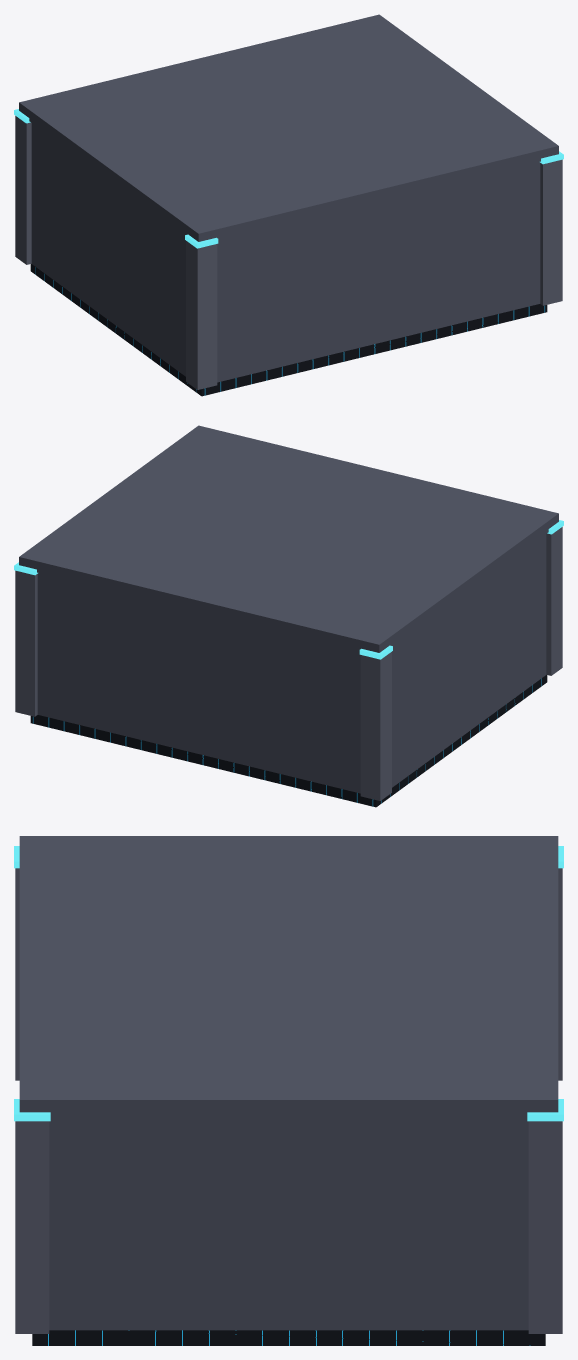
The model's file is east.glb.
The picture shows the model from 3 angles, top to bottom: view 1: azimuth 30°, elevation 25°; view 2: azimuth 150°, elevation 25°; view 3: azimuth 270°, elevation 25°; orthographic projection. The views are drawn at different scales.
Parts seen in each view (by area): view 1: E_Roof, E_Wall_S, E_Wall_West, E_Floor, E_Post.003, E_Post.001, E_Post.002; view 2: E_Roof, E_Wall_N, E_Wall_West, E_Floor, E_Post.002, E_Post, E_Post.003; view 3: E_Roof, E_Wall_Far, E_Floor, E_Post, E_Post.001, E_Post.002, E_Post.003.
Boxes of the visible parts, box(x1,y1,x2,y2) form: E_Roof: box(19, 14, 558, 241); E_Wall_S: box(217, 162, 540, 382); E_Wall_West: box(31, 123, 185, 376); E_Floor: box(30, 264, 547, 396); E_Post.003: box(186, 241, 217, 389); E_Post.001: box(540, 159, 562, 305); E_Post.002: box(15, 116, 31, 264); E_Roof: box(19, 425, 558, 652); E_Wall_N: box(37, 573, 360, 793); E_Wall_West: box(392, 534, 546, 787); E_Floor: box(30, 675, 547, 807); E_Post.002: box(360, 652, 391, 800); E_Post: box(15, 570, 37, 716); E_Post.003: box(546, 527, 562, 675); E_Roof: box(19, 836, 558, 1116); E_Wall_Far: box(49, 1116, 528, 1330); E_Floor: box(32, 1330, 545, 1345); E_Post: box(528, 1121, 562, 1333); E_Post.001: box(15, 1121, 49, 1333); E_Post.002: box(558, 868, 562, 1080); E_Post.003: box(15, 868, 19, 1080).
Size of the model in its own units: 14.86 by 6.49 by 12.86.
7 materials, 1 textured.
